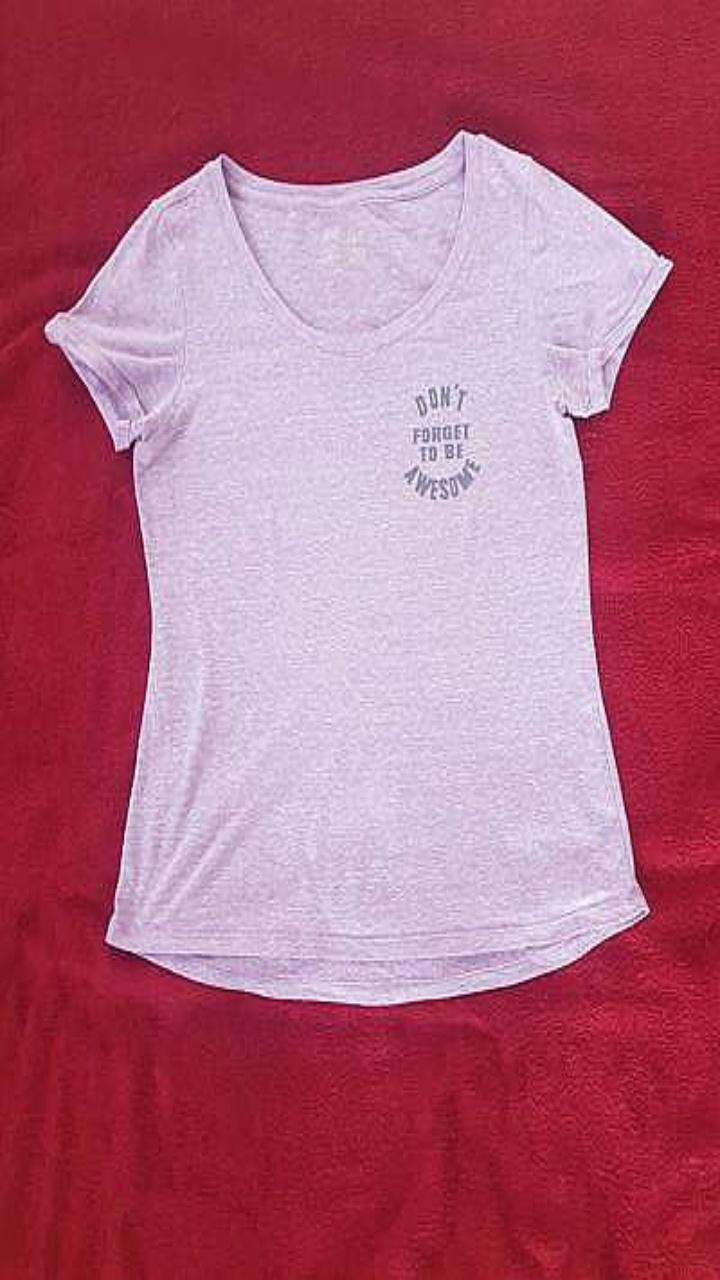T-Shirt: (44, 130, 672, 1004)
